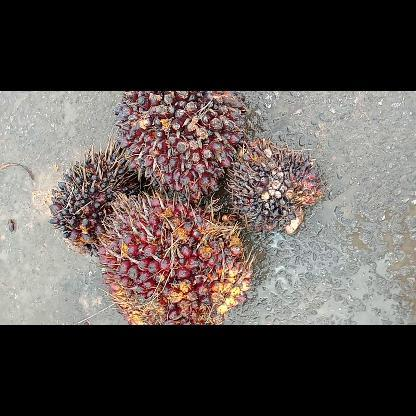Kurang masak: (116, 91, 244, 199)
TBS abnormal: (49, 152, 139, 256), (229, 139, 323, 233)
TBS masak: (99, 194, 251, 324)
